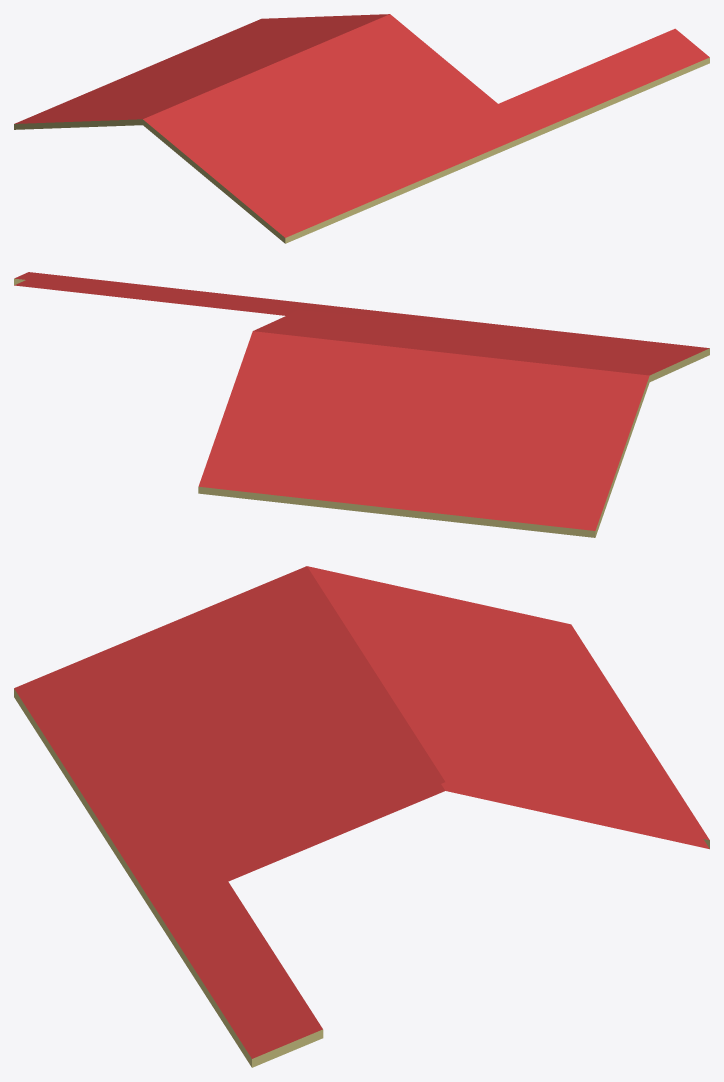
3 views of the same model, one above another, from view 1: azimuth 30°, elevation 25°; view 2: azimuth 150°, elevation 25°; view 3: azimuth 270°, elevation 25° (orthographic). The views are drawn at different scales.
Size of the model in its own units: 10.46 by 7.08 by 1.1.
